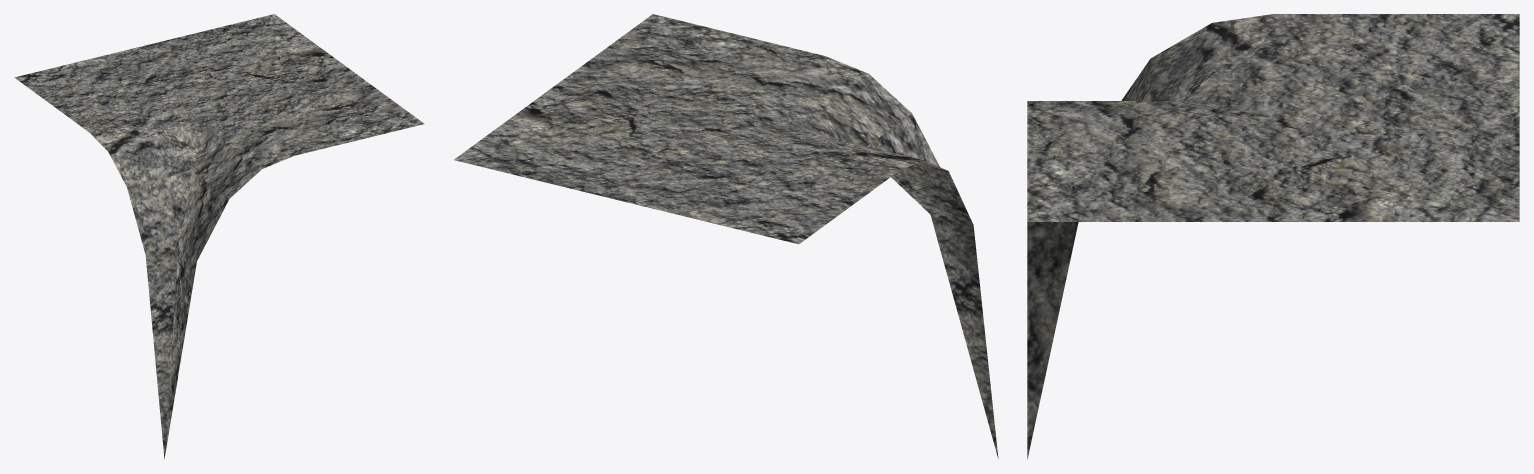
Rendered from Stone4e.obj.
The picture shows the model from 3 angles, left to right: view 1: azimuth 30°, elevation 25°; view 2: azimuth 150°, elevation 25°; view 3: azimuth 270°, elevation 25°; orthographic projection. The views are drawn at different scales.
Visible parts, largest first — view 1: Grid_Grid.014_Grid_Grid.035; view 2: Grid_Grid.014_Grid_Grid.035; view 3: Grid_Grid.014_Grid_Grid.035.
Part boxes in pixels (x1,y1,x2,y2): Grid_Grid.014_Grid_Grid.035: (14, 14, 424, 459); Grid_Grid.014_Grid_Grid.035: (454, 14, 998, 458); Grid_Grid.014_Grid_Grid.035: (1027, 14, 1519, 459).
Bounding box in the file's own units: 1 × 1 × 1.
